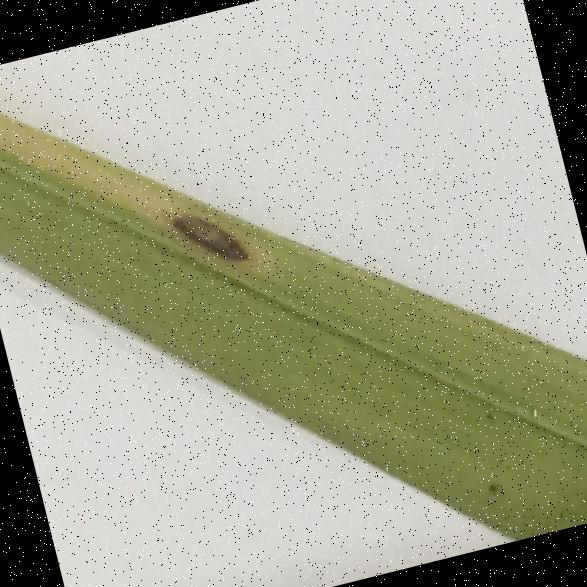Leaf_smut: (158, 180, 266, 294)
